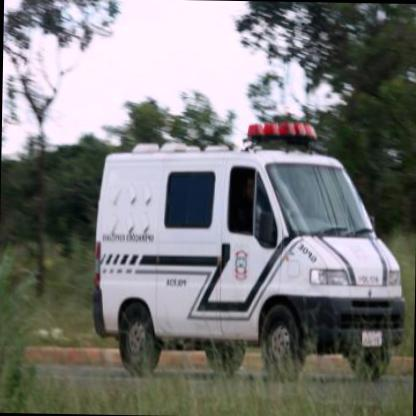truck: (90, 115, 406, 385)
